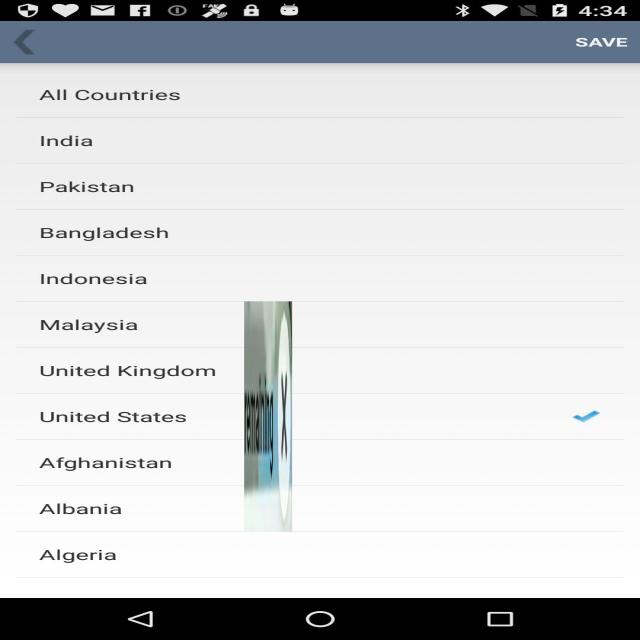misdirection: (244, 301, 292, 532)
